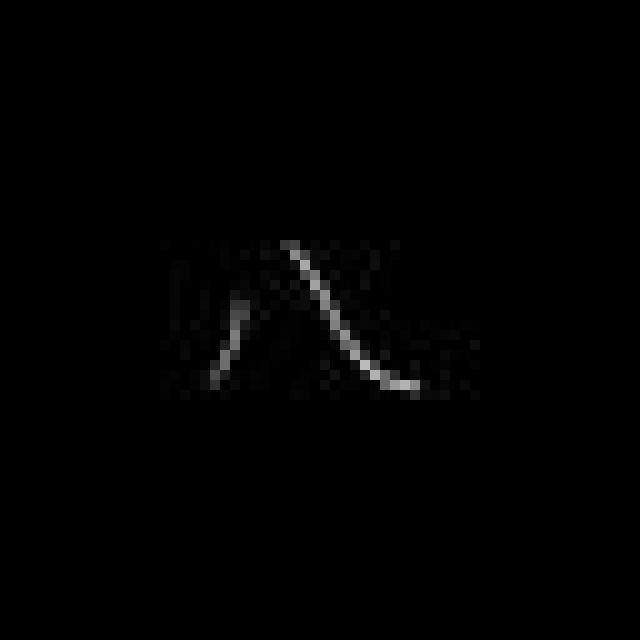8 -eight-: (196, 235, 433, 409)
